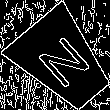N_SE: (30, 30, 95, 94)
